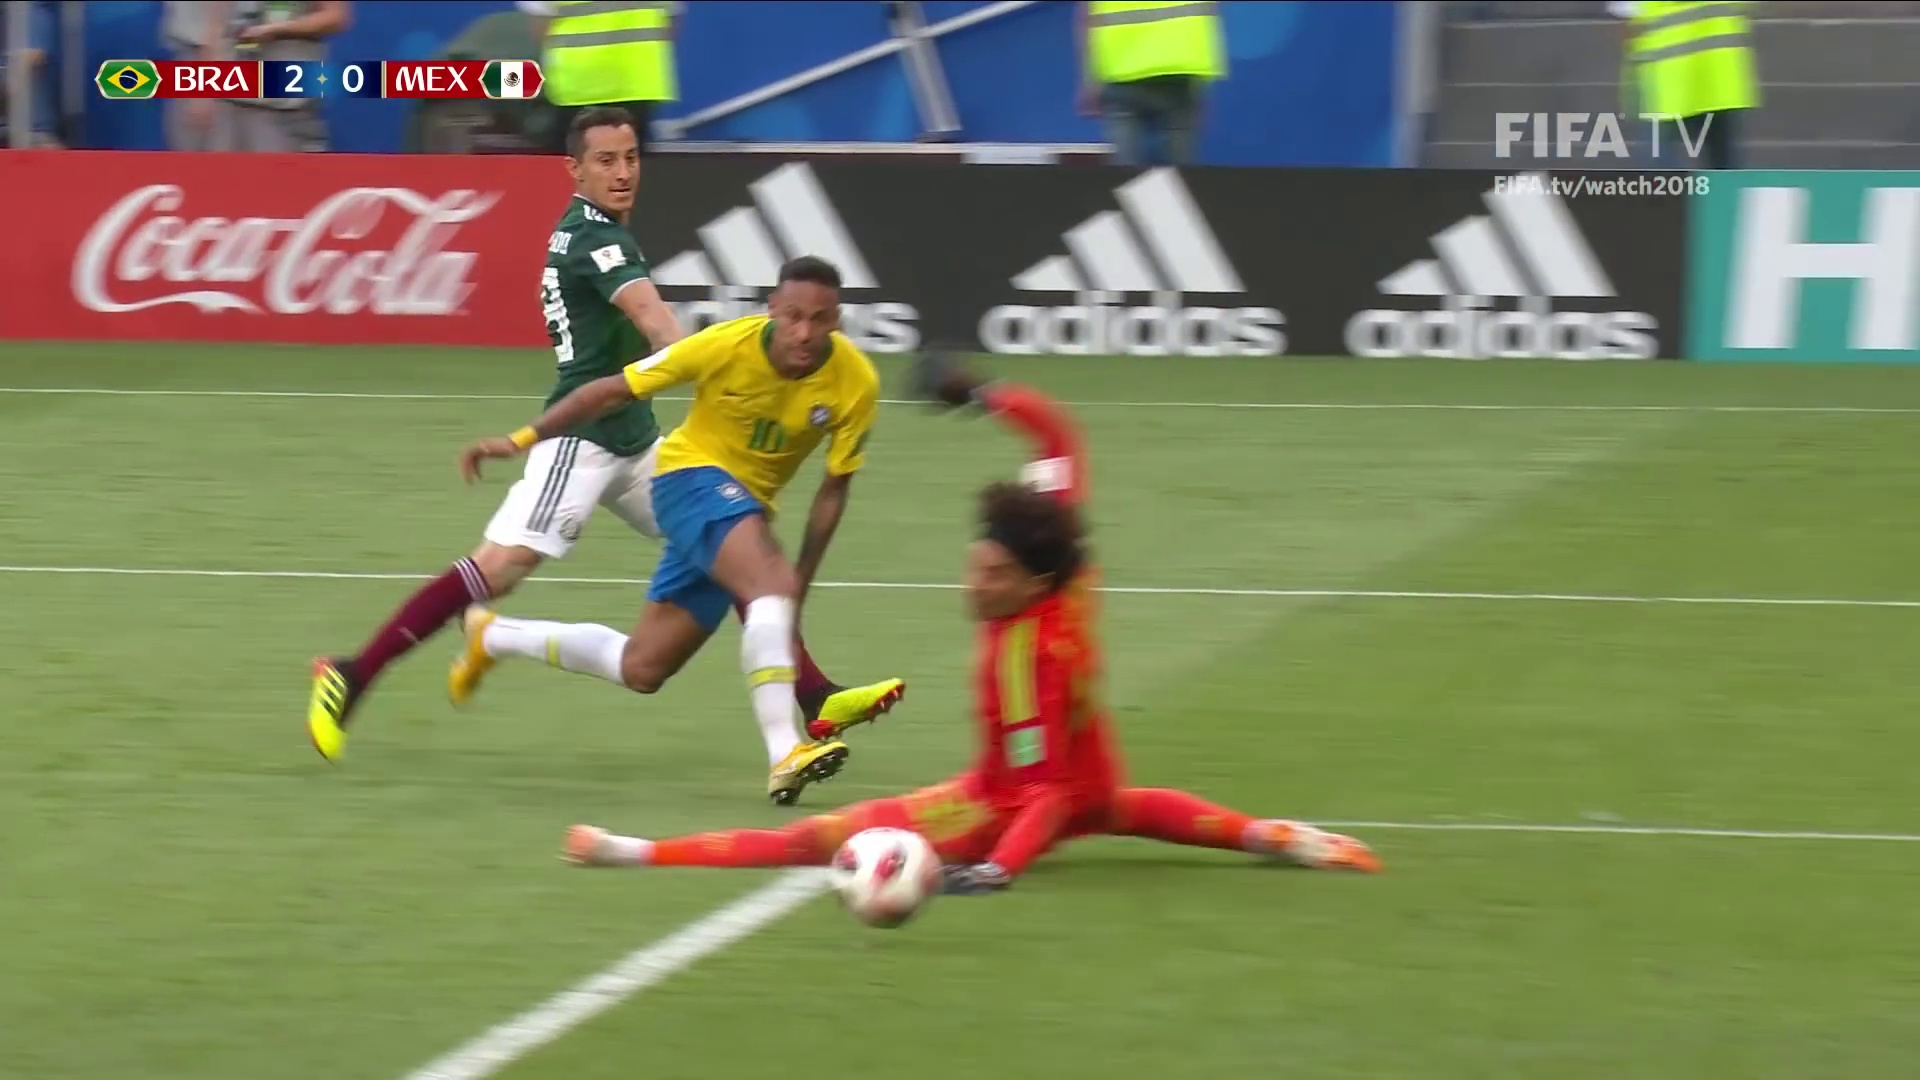ball: (836, 832, 934, 922)
person: (598, 376, 1373, 882), (317, 109, 909, 738), (461, 257, 880, 807)
